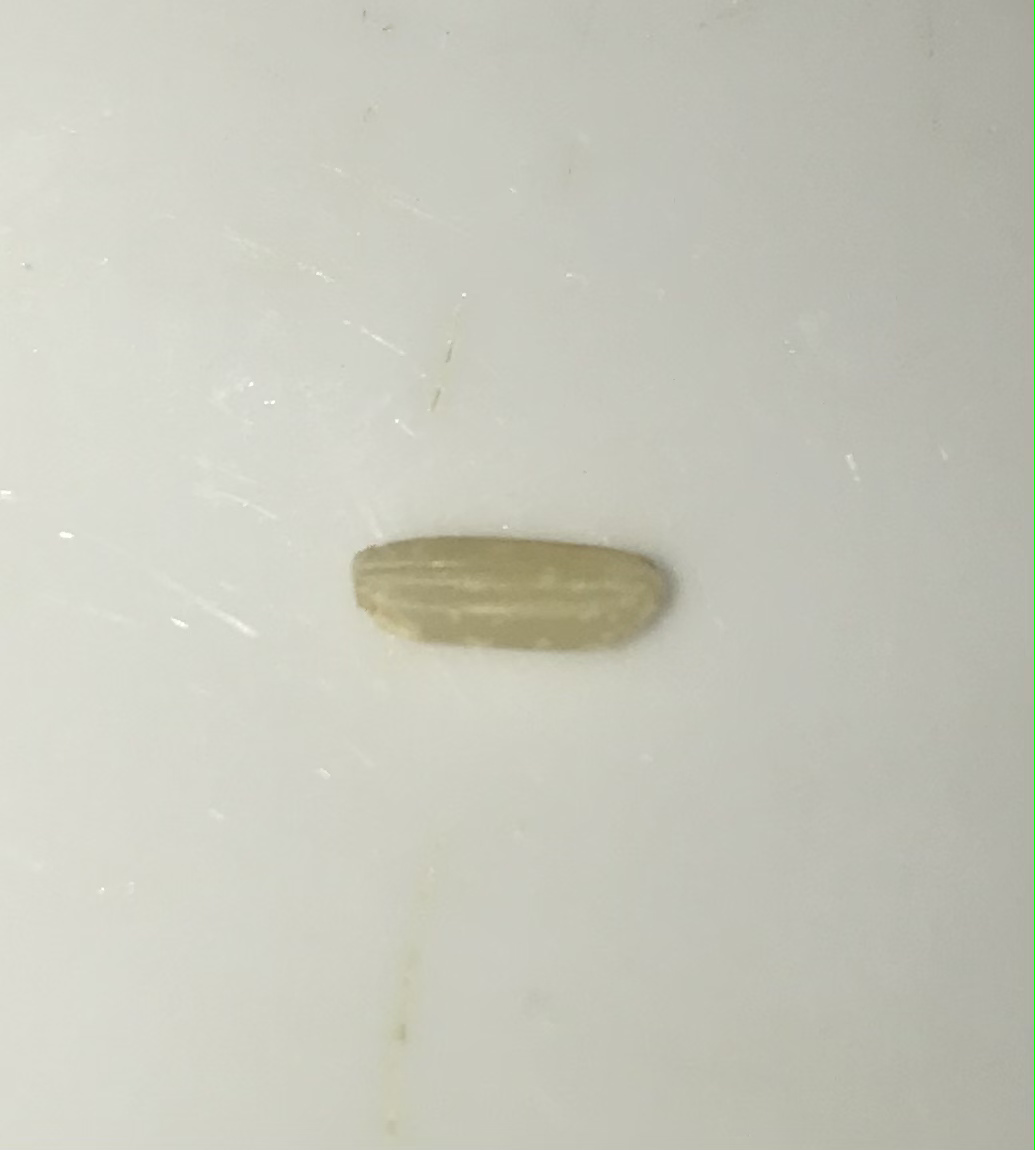Gao Lut Trang: (338, 494, 670, 686)
